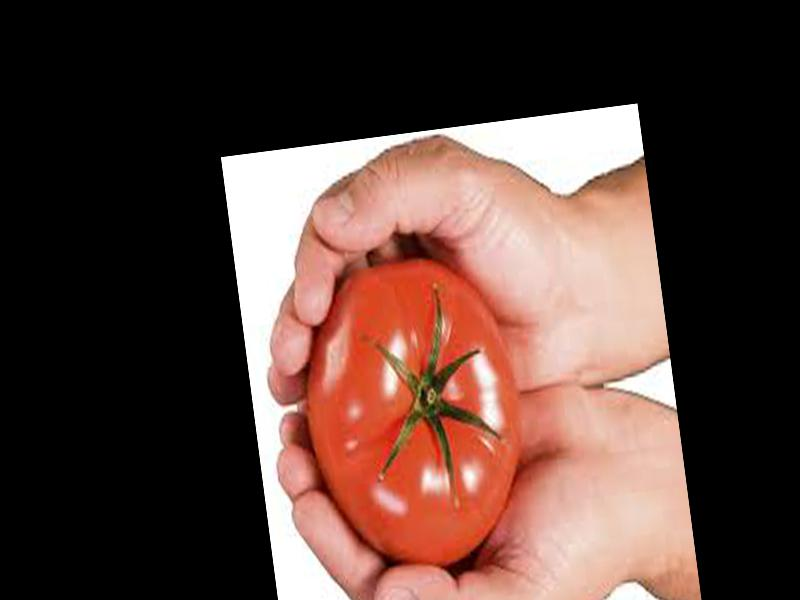Tomato: (291, 246, 535, 580)
